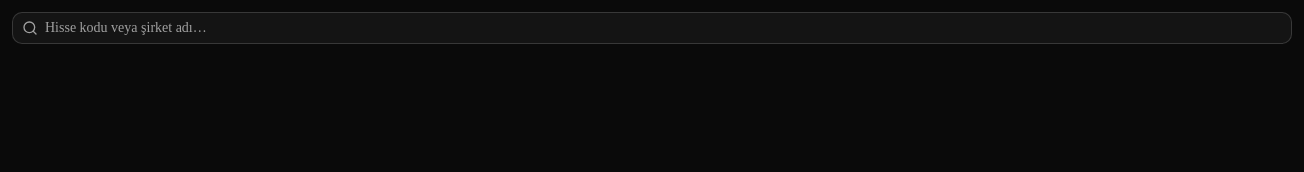
Scenario: StockSearch › sonuç yoksa bunu söyler
The width and height of the screenshot is (1304, 172).
Type "zzz" into the field named "Hisse ara" at x=652, y=28, box x1=12 y1=12 x2=1292 y2=44
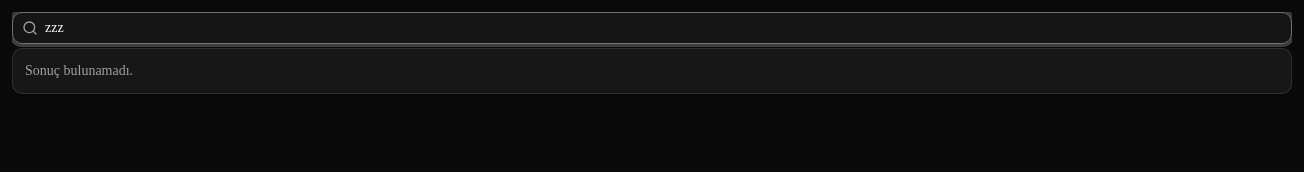
Now the text "Sonuç bulunamadı." is shown, box x1=25 y1=63 x2=133 y2=78
